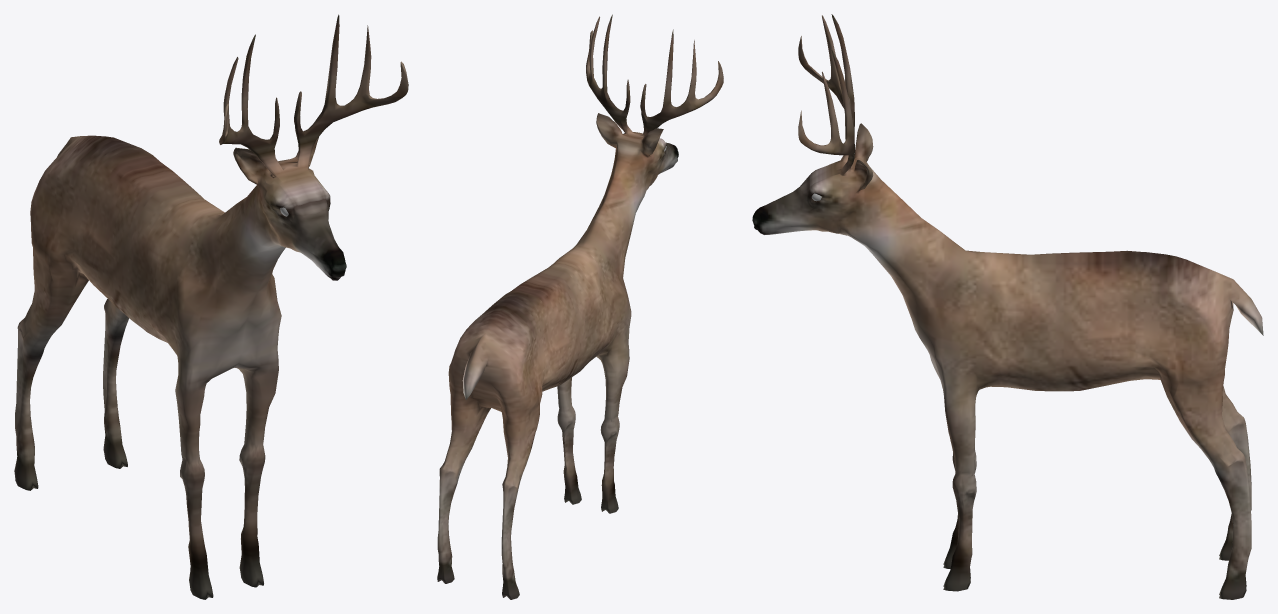
Rendered from stag.glb.
The picture shows the model from 3 angles, left to right: view 1: azimuth 30°, elevation 25°; view 2: azimuth 150°, elevation 25°; view 3: azimuth 270°, elevation 25°; orthographic projection. The views are drawn at different scales.
Visible parts, largest first — view 1: Object_7; view 2: Object_7; view 3: Object_7.
Part boxes in pixels (<box>): Object_7: <box>14,14,408,599</box>; Object_7: <box>437,14,723,599</box>; Object_7: <box>752,14,1263,599</box>.
Size of the model in its own units: 0.7843 by 2.5 by 2.12.
Materials: 3 (2 with a texture image).
